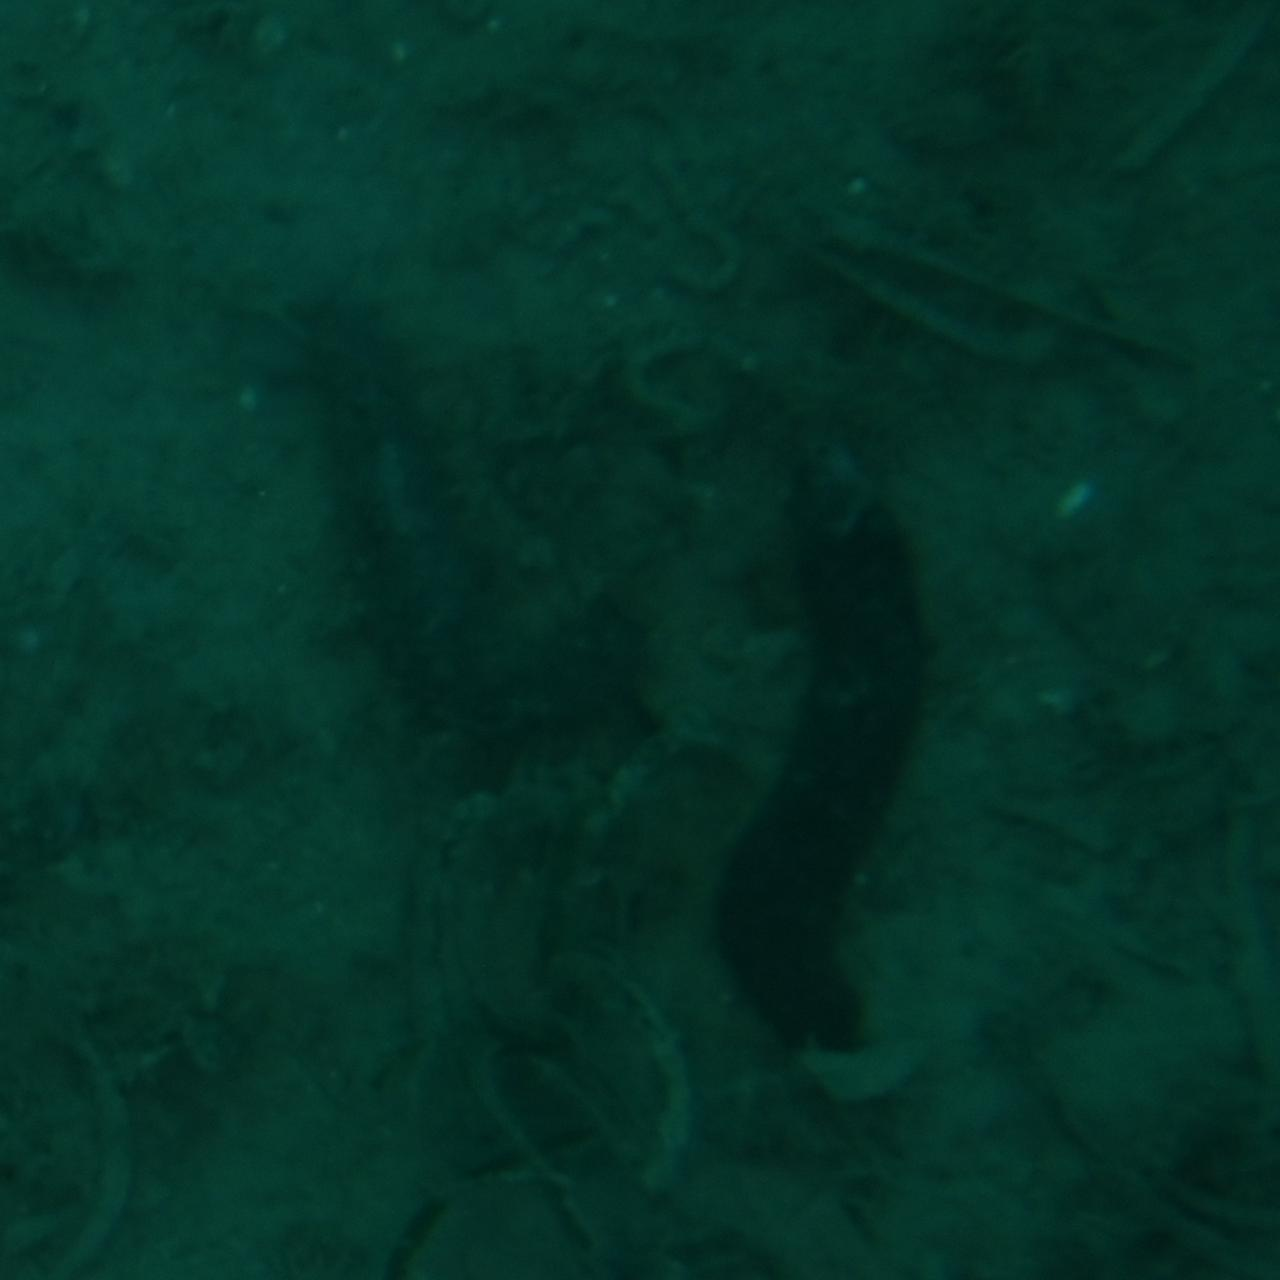Holothuria tubulosa: (290, 270, 654, 785), (709, 428, 907, 1078)
